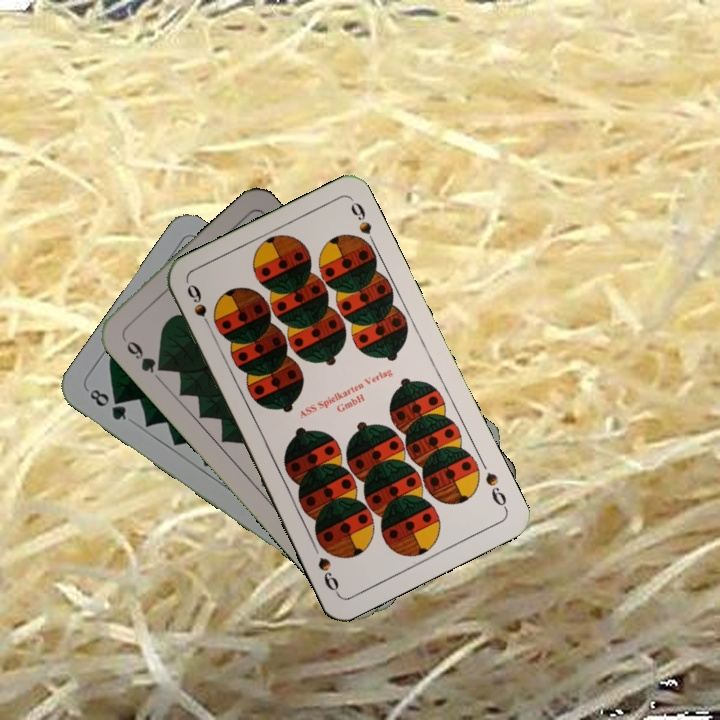G8: (85, 384, 129, 423)
G9: (122, 336, 168, 376)
S9: (183, 279, 216, 335), (481, 468, 510, 513)
